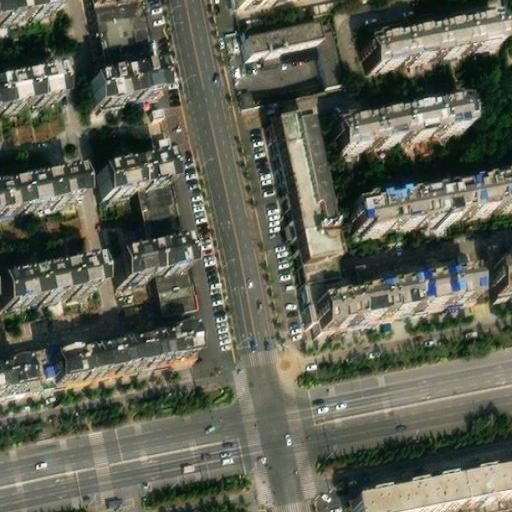building: (264, 103, 334, 286), (15, 335, 198, 397), (351, 181, 512, 240), (310, 285, 470, 340), (366, 15, 506, 73), (40, 336, 184, 391), (333, 97, 472, 151), (0, 262, 94, 308), (95, 0, 159, 66), (0, 163, 85, 211), (89, 56, 165, 102), (100, 150, 177, 192), (132, 181, 182, 245), (106, 248, 181, 290), (0, 63, 64, 107), (242, 19, 318, 52), (315, 15, 347, 80), (454, 482, 512, 512), (364, 494, 457, 512), (487, 255, 512, 298)
